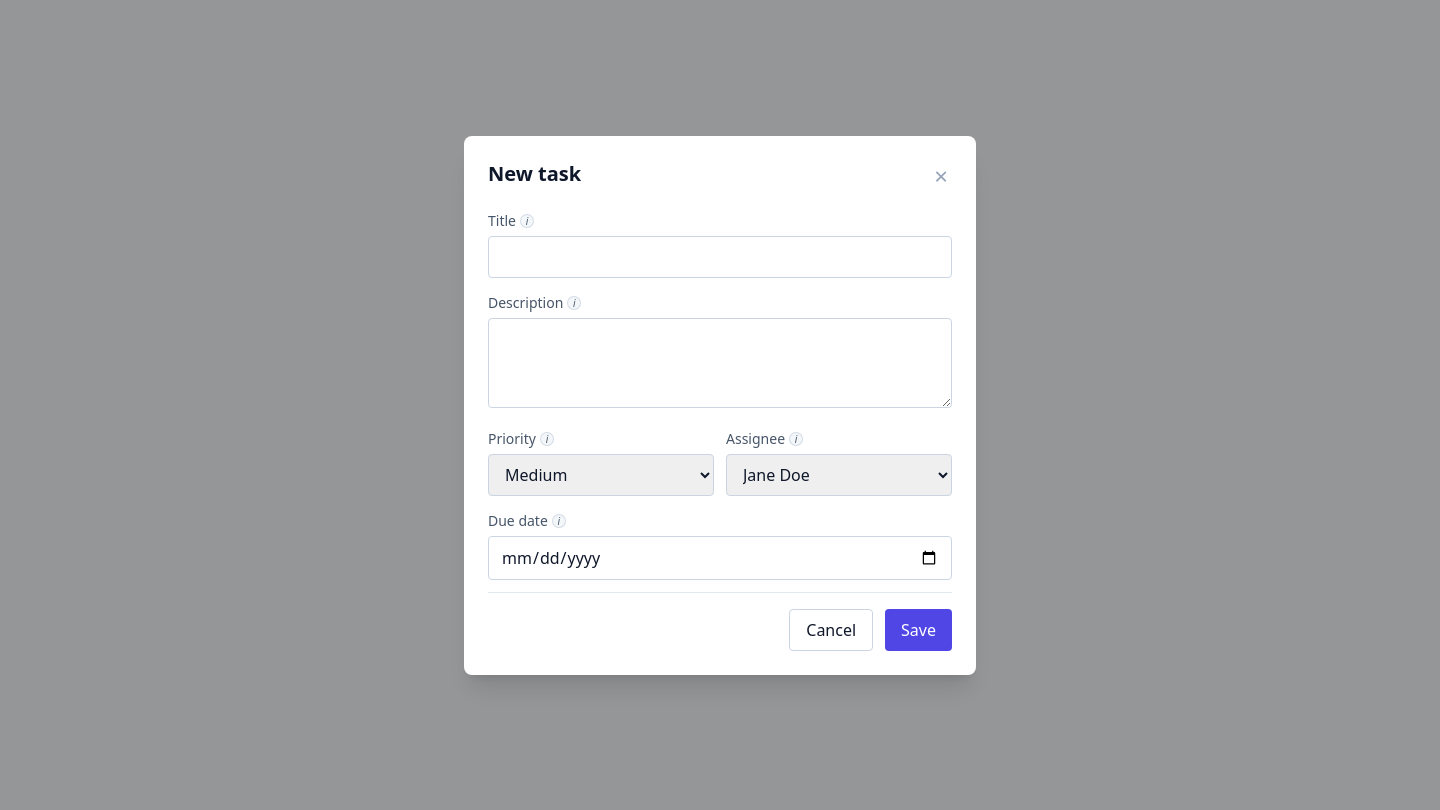
it: TaskModal › shows API error message when save fails
Type "Duplicate task" into the field at point(720, 256), box [488,236,952,278]
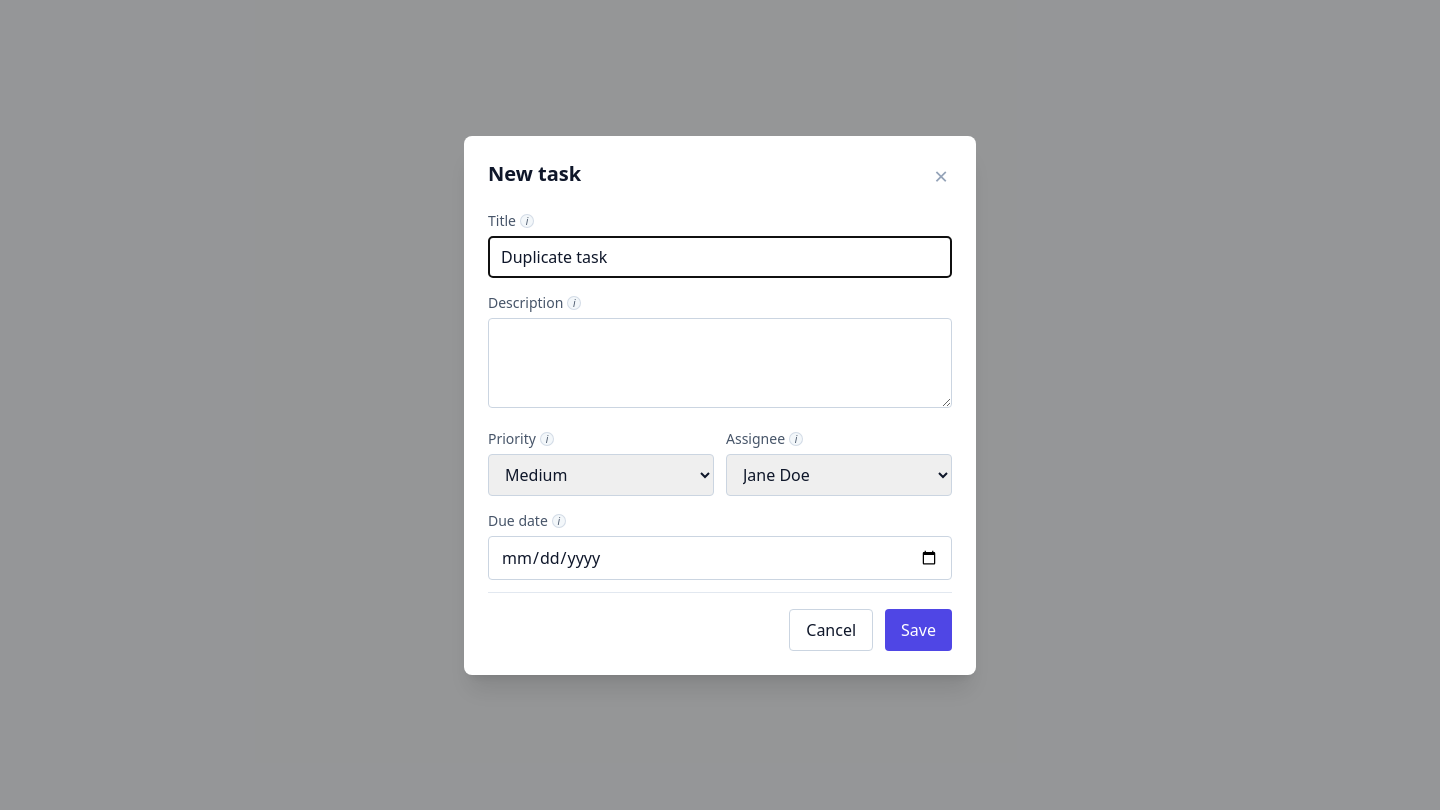
Click the button "Save" at point(919, 630), box [885,608,952,650]
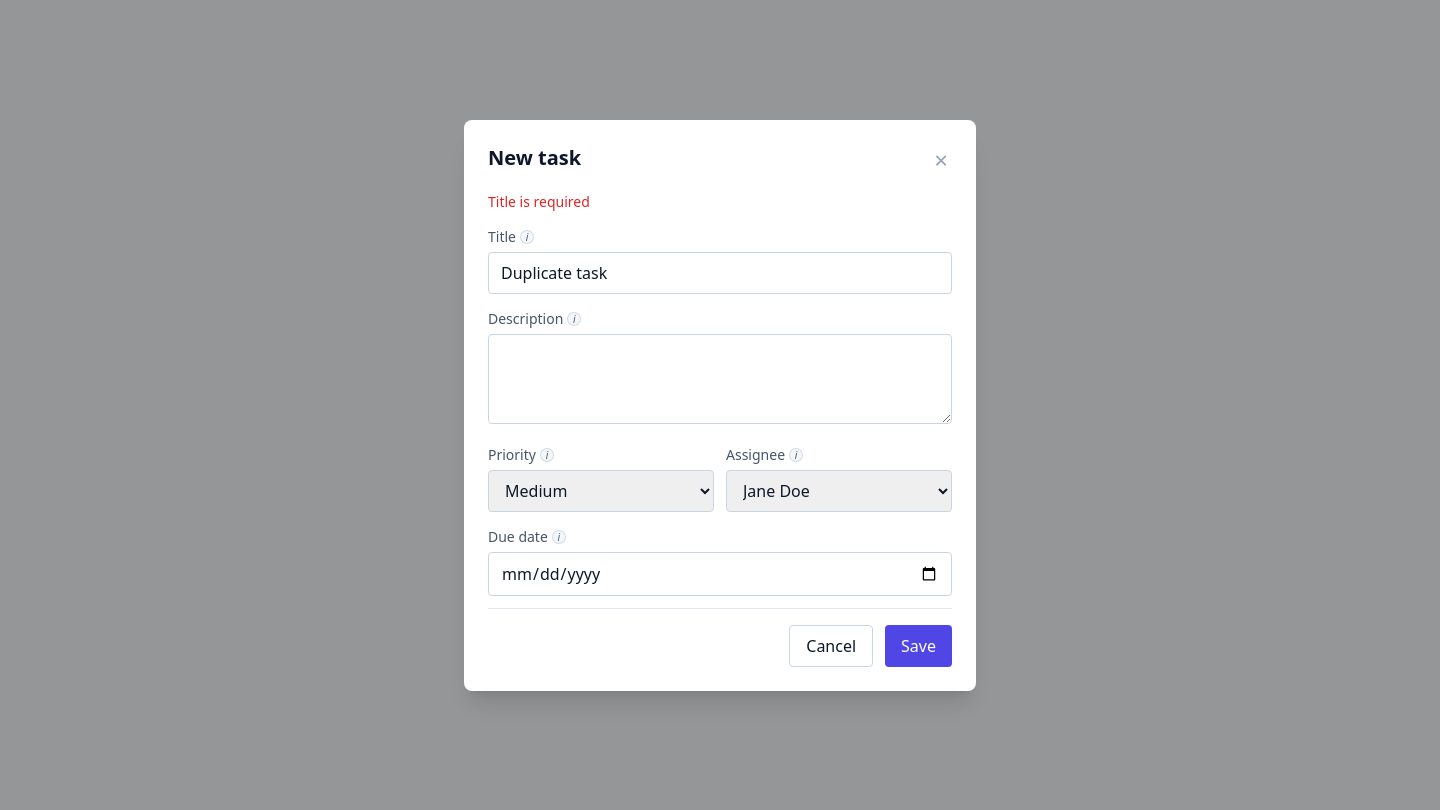
expect the text "Title is required" is shown: met, box [488,192,590,210]
